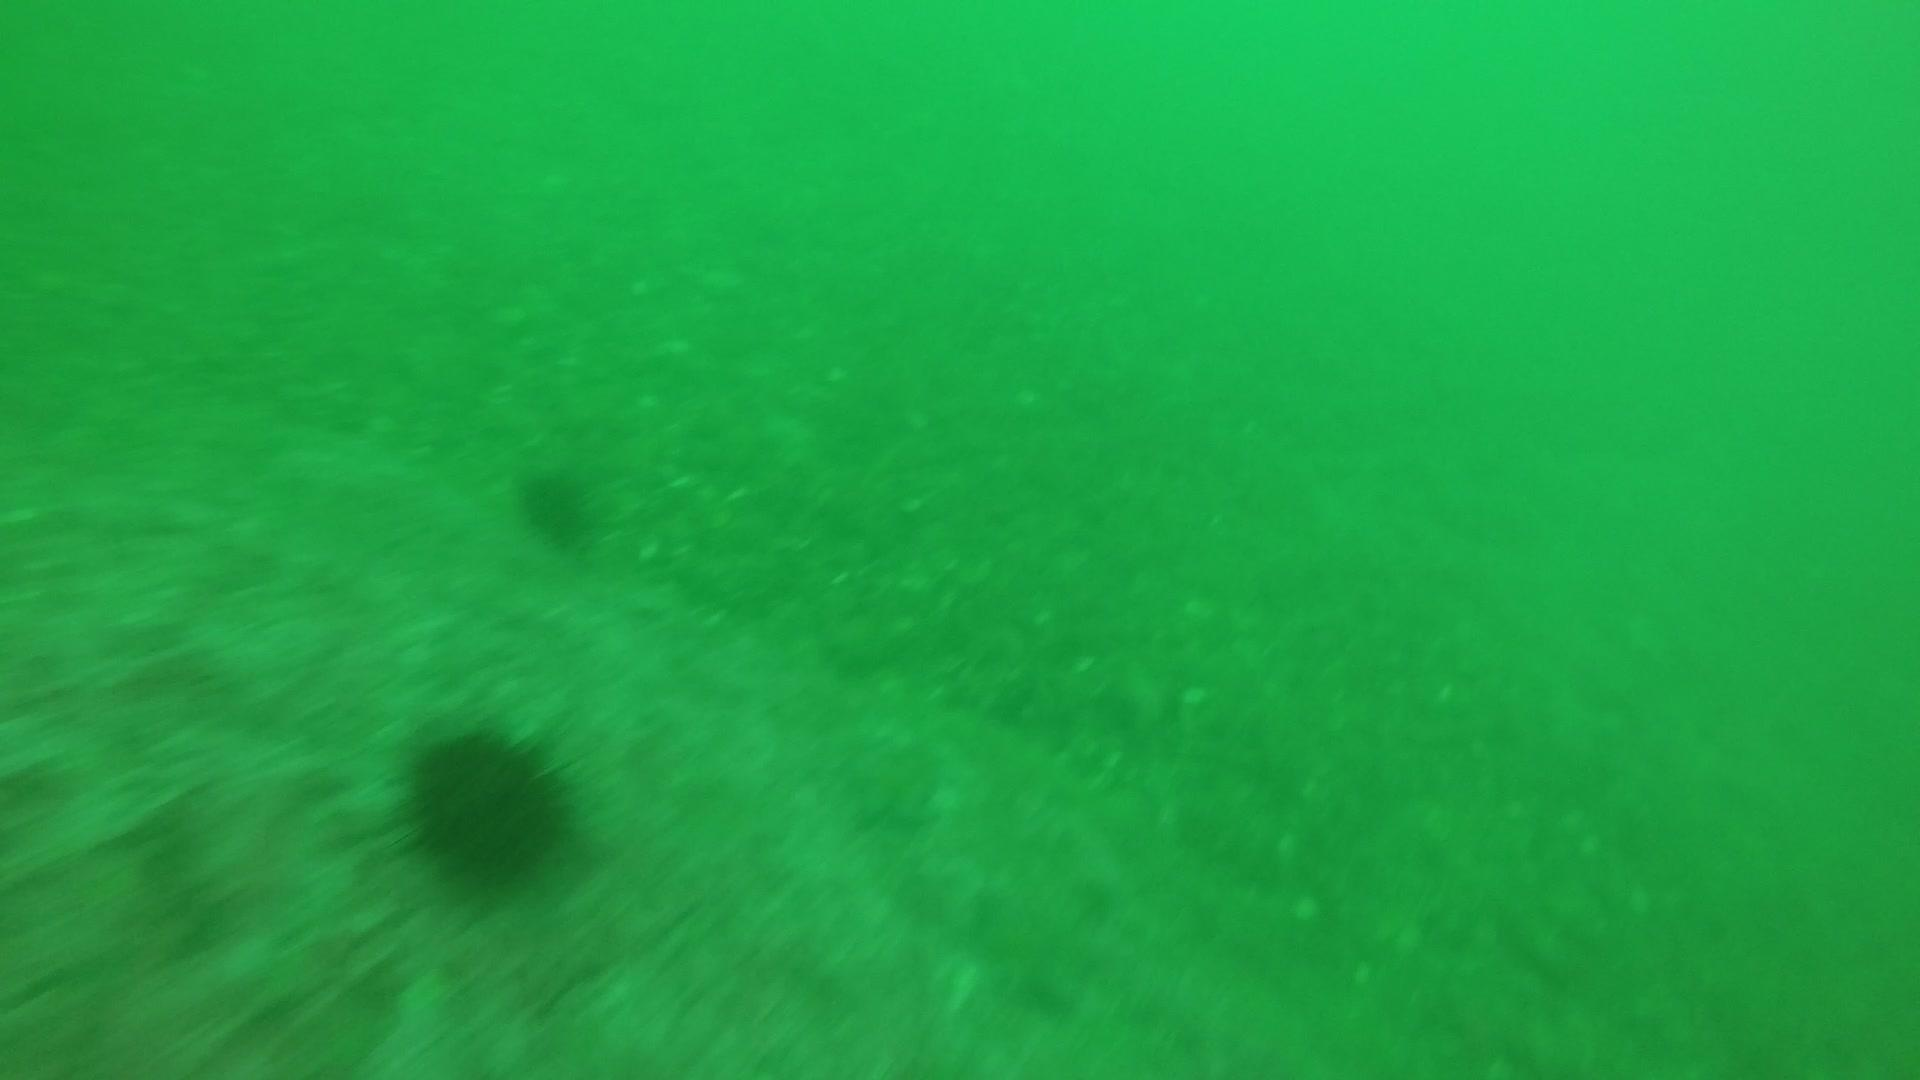echinus: (392, 713, 582, 891), (510, 460, 603, 550)
